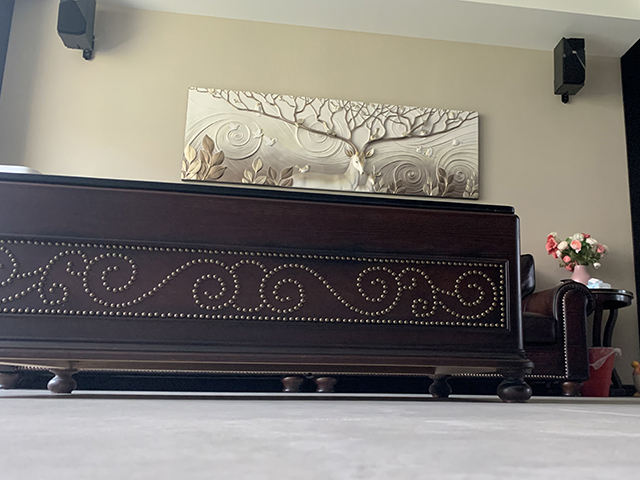sofa: (516, 253, 594, 396)
table: (1, 172, 533, 404)
trashcan: (586, 346, 616, 397)
